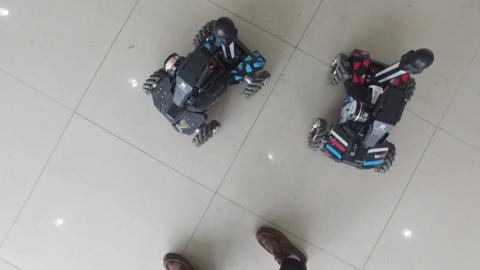chariot: (301, 43, 439, 182), (141, 13, 275, 154)
